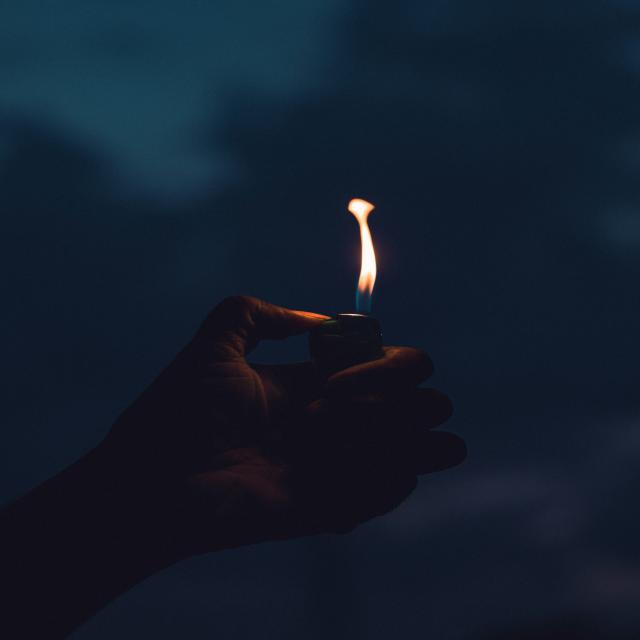fire: (348, 199, 377, 314)
